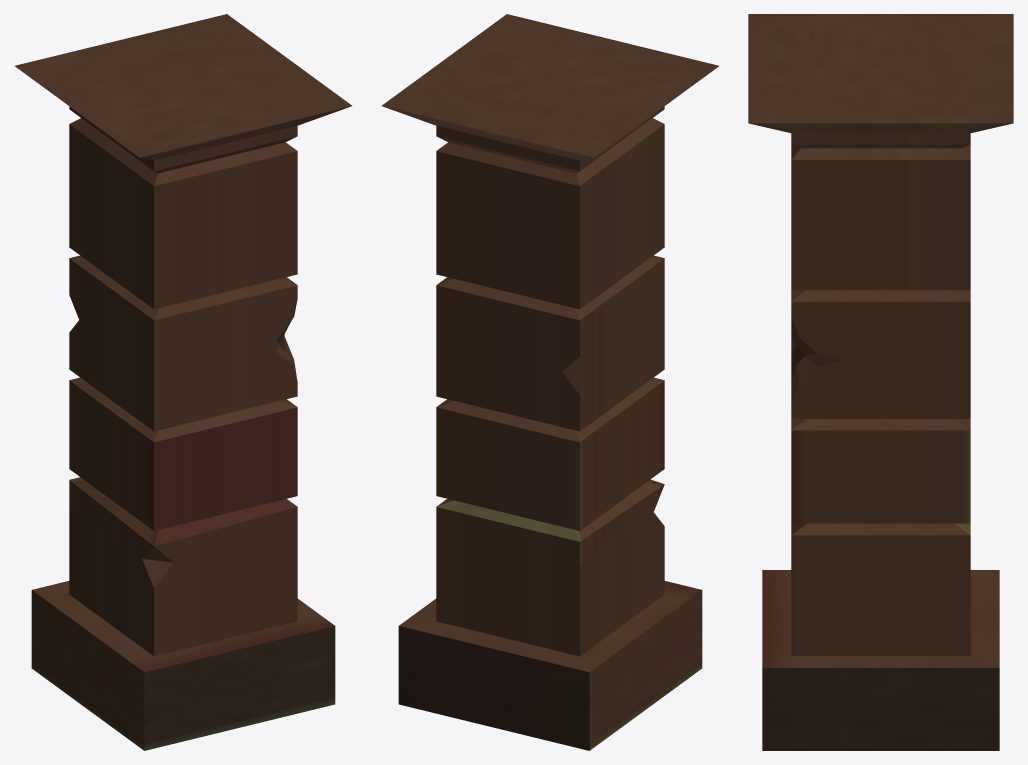
File: NodoProy.obj
3 views of the same model, side by side, from view 1: azimuth 30°, elevation 25°; view 2: azimuth 150°, elevation 25°; view 3: azimuth 270°, elevation 25° (orthographic). The views are drawn at different scales.
Visible parts, largest first — view 1: Pilar1.003_Plano.011; view 2: Pilar1.003_Plano.011; view 3: Pilar1.003_Plano.011.
Part boxes in pixels (x1,y1,x2,y2): Pilar1.003_Plano.011: [15, 14, 351, 750]; Pilar1.003_Plano.011: [382, 14, 718, 750]; Pilar1.003_Plano.011: [748, 14, 1013, 750].
Size of the model in its own units: 1.12 by 3.01 by 1.14.
Materials: 1 (1 with a texture image).
